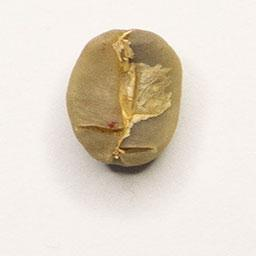premium: (61, 25, 188, 171)
